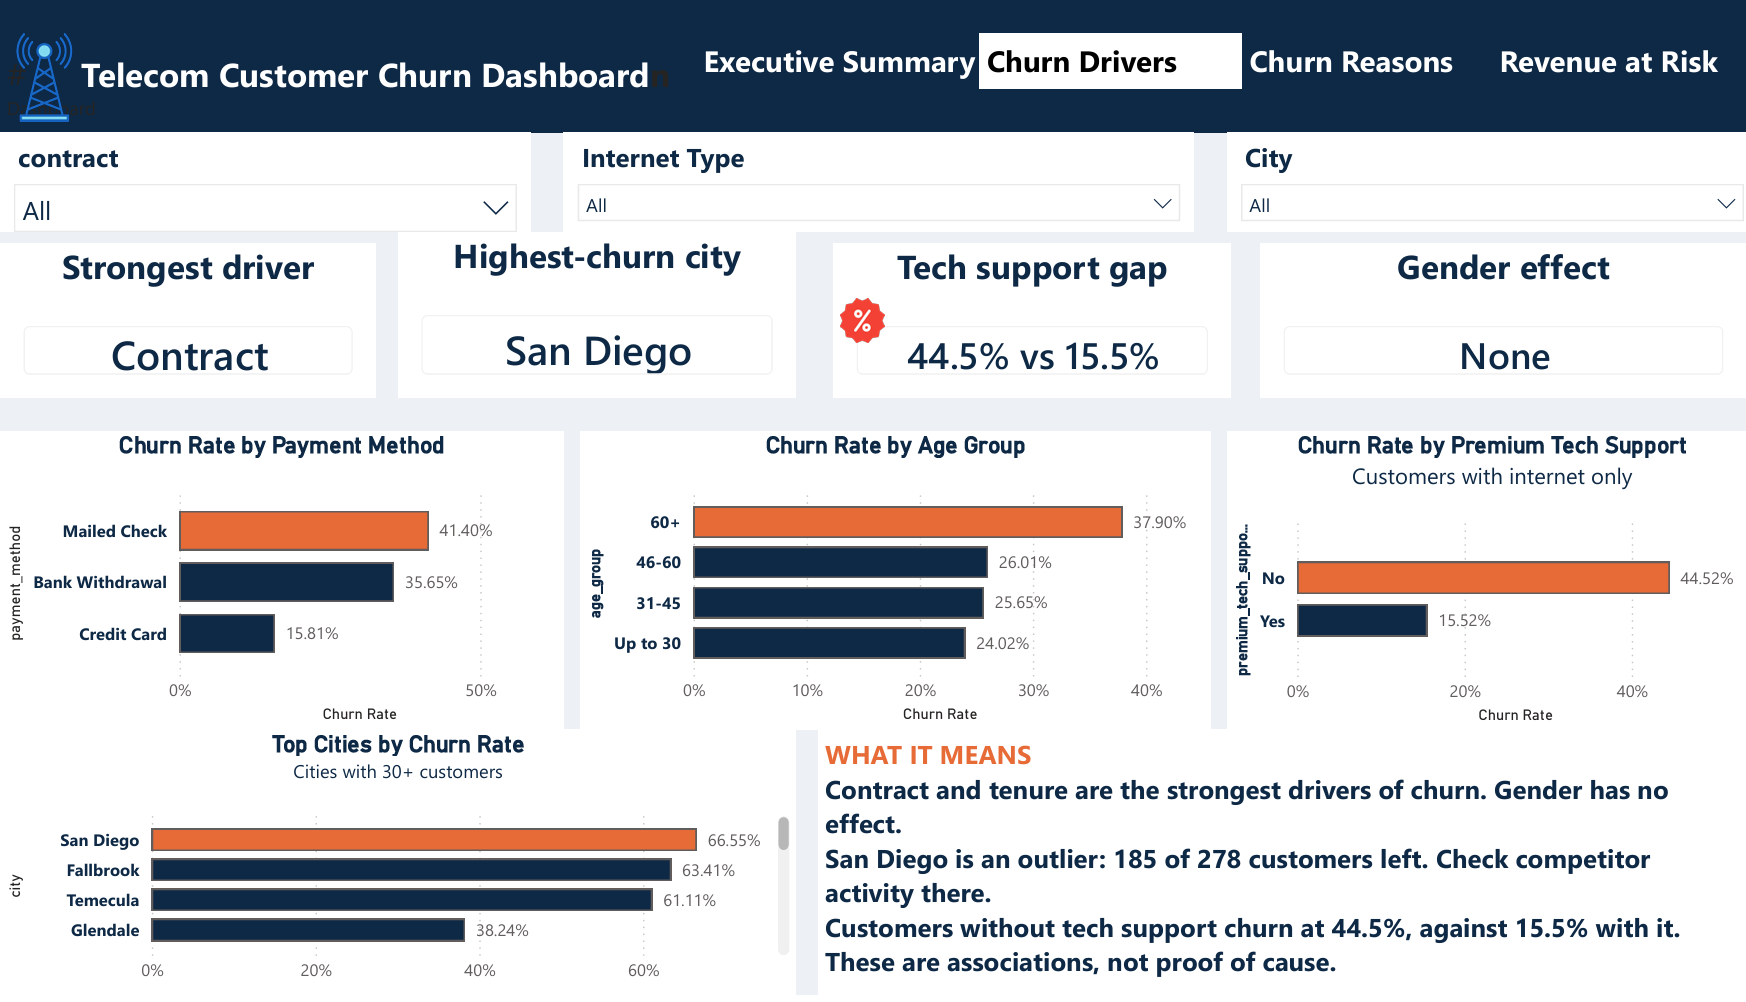

What the dashboard file says about the page in this screenshot:
{"tool":"powerbi","page":{"name":"Churn Drivers ","canvas":[1280,720],"ordinal":1},"visuals":[{"type":"shape","box":[0,0,1280,96],"z":0},{"type":"textbox","box":[0,32,496,64],"z":1000},{"type":"textbox","box":[504,24,216,48],"z":2000},{"type":"textbox","box":[709.3,24,200,40],"z":3000},{"type":"textbox","box":[898.7,24,200,40],"z":4000},{"type":"textbox","box":[1080,24,200,40],"z":5000},{"type":"slicer","title":"Contract","fields":{"Values":["Customers.contract"]},"box":[0,96,384,72],"z":6000},{"type":"slicer","fields":{"Values":["Customers.internet_type"]},"box":[408,96,456,72],"z":7000},{"type":"slicer","fields":{"Values":["Customers.city"]},"box":[888,96,384,72],"z":8000},{"type":"cardVisual","title":"Strongest driver","fields":{"Data":["Customers.Strongest Driver"]},"box":[0,176,272,112],"z":9000},{"type":"cardVisual","title":"Highest-churn city","fields":{"Data":["Customers.Highest Churn City"]},"box":[288,168,288,120],"z":10000},{"type":"cardVisual","title":"Tech support gap","fields":{"Data":["Customers.Tech Support Gap"]},"box":[602.7,176,288,112],"z":11000},{"type":"cardVisual","title":"\tGender effect","fields":{"Data":["Customers.Gender Effect"]},"box":[912,176,352,112],"z":12000},{"type":"image","box":[0,24,64,64],"z":13000},{"type":"image","box":[576,216,96,32],"z":14000},{"type":"clusteredBarChart","title":"Churn Rate by Payment Method","fields":{"Category":["Customers.payment_method"],"Y":["Customers.Churn Rate"]},"box":[0,312,408,216],"z":15000},{"type":"clusteredBarChart","title":"Churn Rate by Age Group","fields":{"Category":["Customers.age_group"],"Y":["Customers.Churn Rate"]},"box":[420,312,456,216],"z":16000},{"type":"clusteredBarChart","title":"Churn Rate by Premium Tech Support","fields":{"Category":["Customers.premium_tech_support"],"Y":["Customers.Churn Rate"]},"box":[888,312,384,216],"z":17000},{"type":"clusteredBarChart","title":"Top Cities by Churn Rate","fields":{"Category":["Customers.city"],"Y":["Customers.Churn Rate 30plus"]},"box":[0,528,576,192],"z":18000},{"type":"textbox","box":[592,528,672,192],"z":19000}]}

Visuals, with their boxes in screenshot pixels (x1, y1, x2, y2), scaled from the page's 1280x720 canvas onto the 1746x1002 screenshot:
shape: <bbox>0, 0, 1745, 134</bbox>
textbox: <bbox>0, 45, 677, 134</bbox>
textbox: <bbox>687, 33, 982, 100</bbox>
textbox: <bbox>968, 33, 1240, 89</bbox>
textbox: <bbox>1226, 33, 1499, 89</bbox>
textbox: <bbox>1473, 33, 1745, 89</bbox>
"Contract" slicer: <bbox>0, 134, 524, 234</bbox>
slicer - Customers.internet_type: <bbox>557, 134, 1179, 234</bbox>
slicer - Customers.city: <bbox>1211, 134, 1735, 234</bbox>
"Strongest driver" cardVisual: <bbox>0, 245, 371, 401</bbox>
"Highest-churn city" cardVisual: <bbox>393, 234, 786, 401</bbox>
"Tech support gap" cardVisual: <bbox>822, 245, 1215, 401</bbox>
"	Gender effect" cardVisual: <bbox>1244, 245, 1724, 401</bbox>
image: <bbox>0, 33, 87, 122</bbox>
image: <bbox>786, 301, 917, 345</bbox>
"Churn Rate by Payment Method" clusteredBarChart: <bbox>0, 434, 557, 735</bbox>
"Churn Rate by Age Group" clusteredBarChart: <bbox>573, 434, 1195, 735</bbox>
"Churn Rate by Premium Tech Support" clusteredBarChart: <bbox>1211, 434, 1735, 735</bbox>
"Top Cities by Churn Rate" clusteredBarChart: <bbox>0, 735, 786, 1001</bbox>
textbox: <bbox>808, 735, 1724, 1001</bbox>
